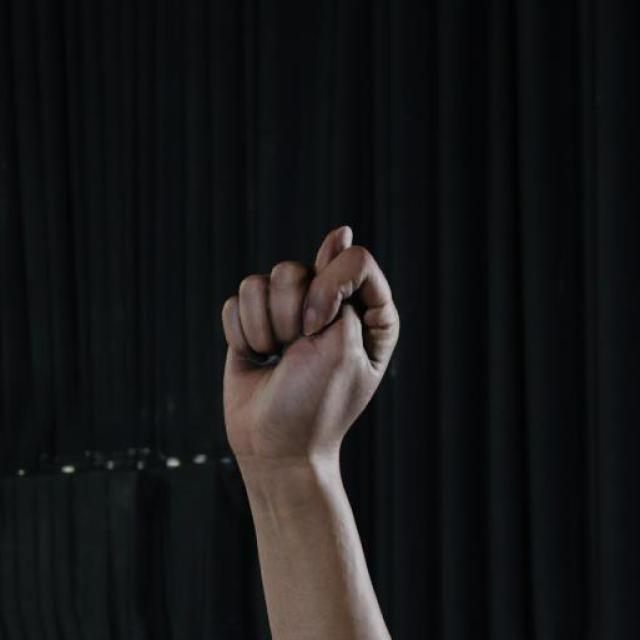T: (212, 223, 404, 465)
